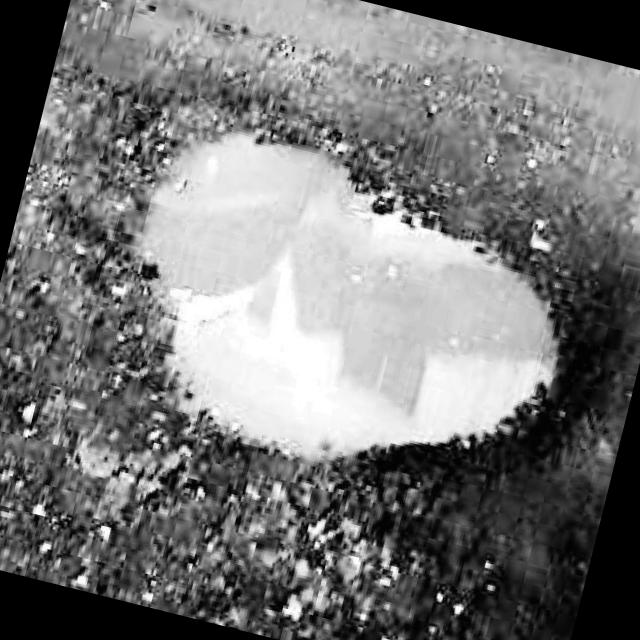Pothole: (41, 42, 640, 549)
